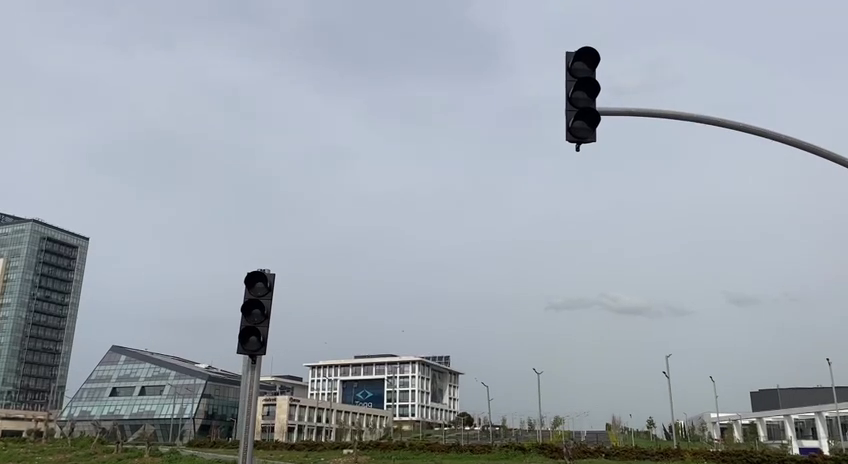trafficLight: (560, 42, 606, 154), (232, 266, 277, 362)
